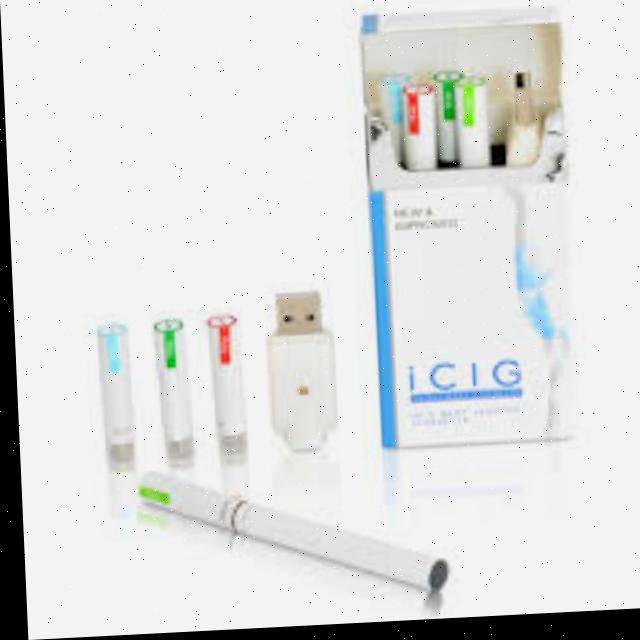vape: (132, 462, 444, 610), (201, 317, 245, 470), (150, 319, 192, 472), (93, 325, 132, 473), (428, 73, 468, 175), (399, 86, 437, 178), (378, 72, 419, 156), (455, 84, 488, 176)
